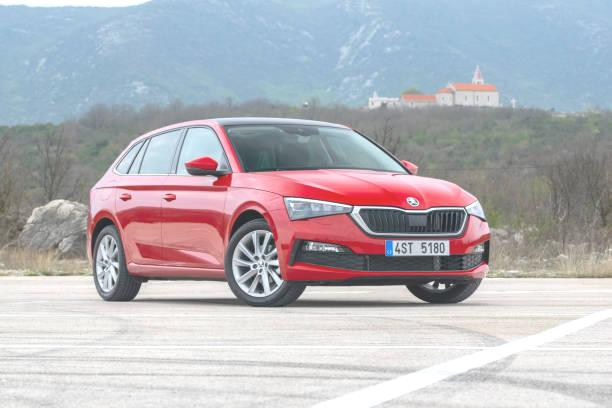skoda: (403, 193, 428, 212)
